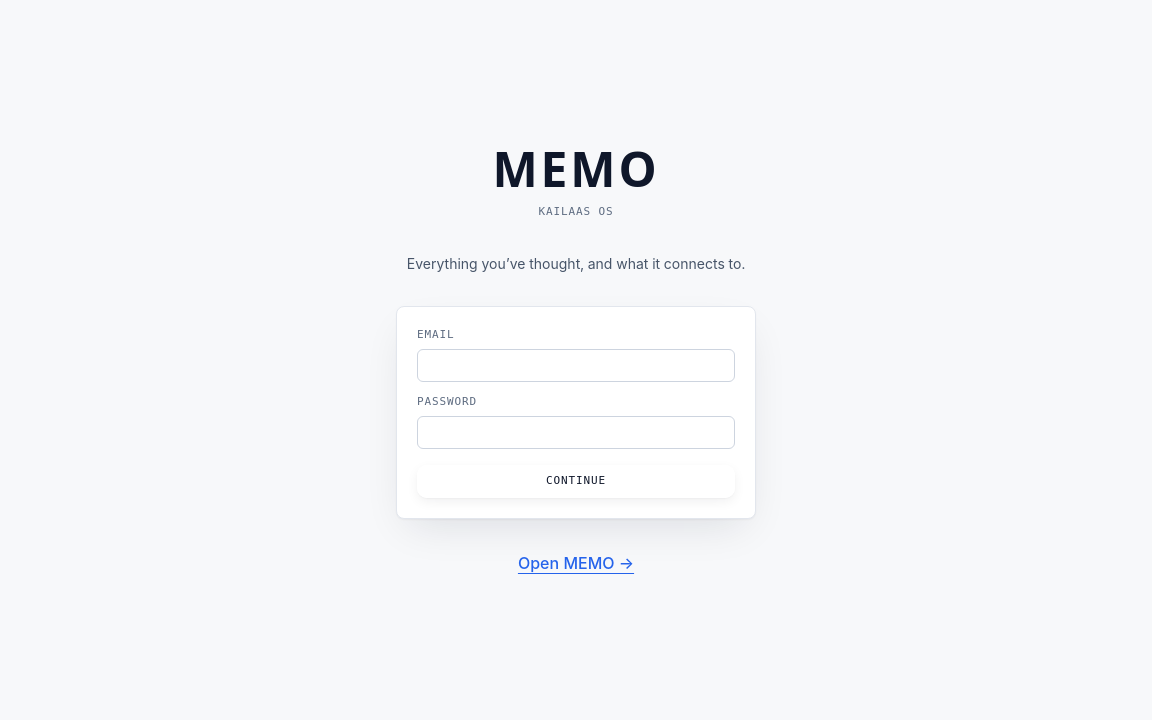
Test: the route › takes Open MEMO to the chat, and leaves the form inert
This screenshot has width=1152, height=720.
Click the link "Open MEMO →".
click(576, 564)  # box top-left (518, 551), bottom-right (634, 577)
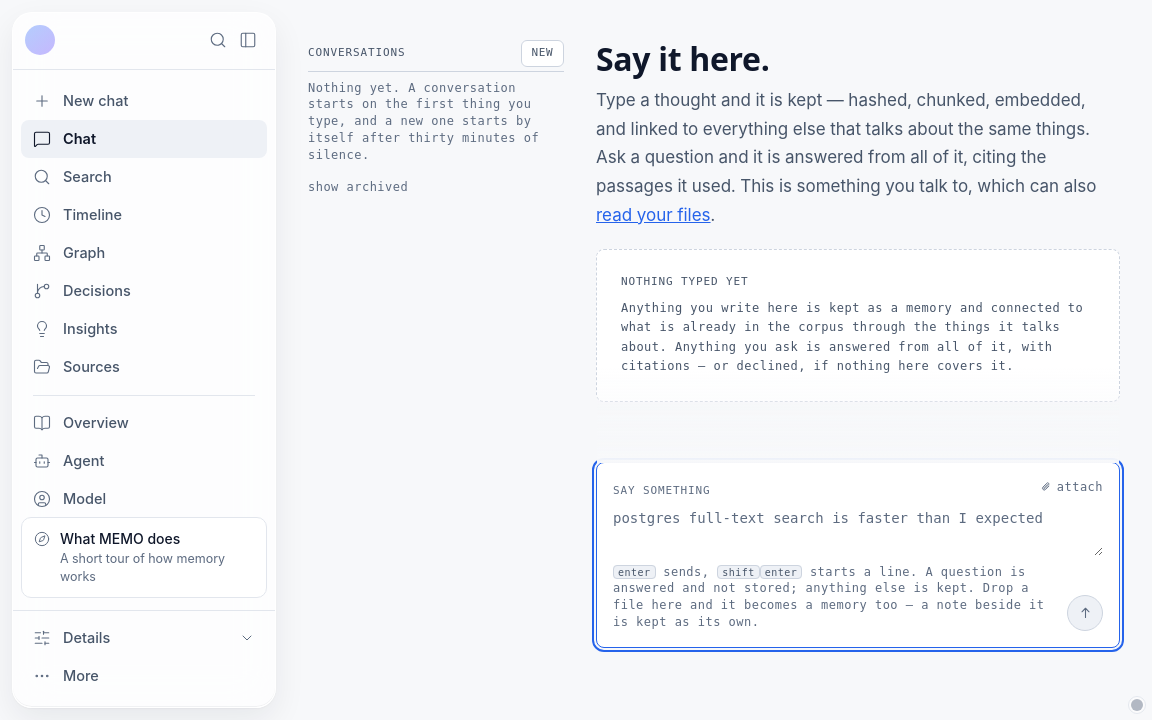
Expected: the heading "Say it here." is shown, top-left (596, 37), bottom-right (770, 80)
Expected: the navigation bar is shown, top-left (13, 70), bottom-right (275, 517)
